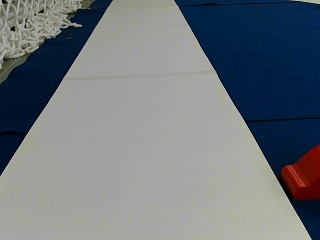bridge: (281, 144, 319, 196)
